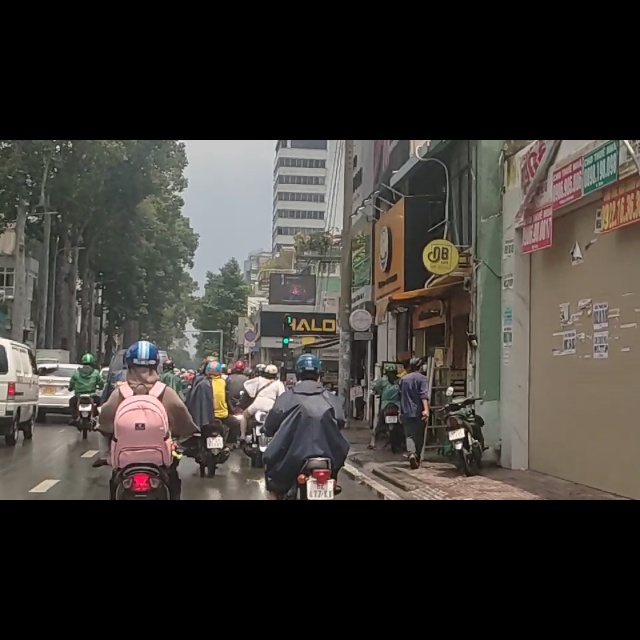bien_cam: (244, 338, 257, 358)
